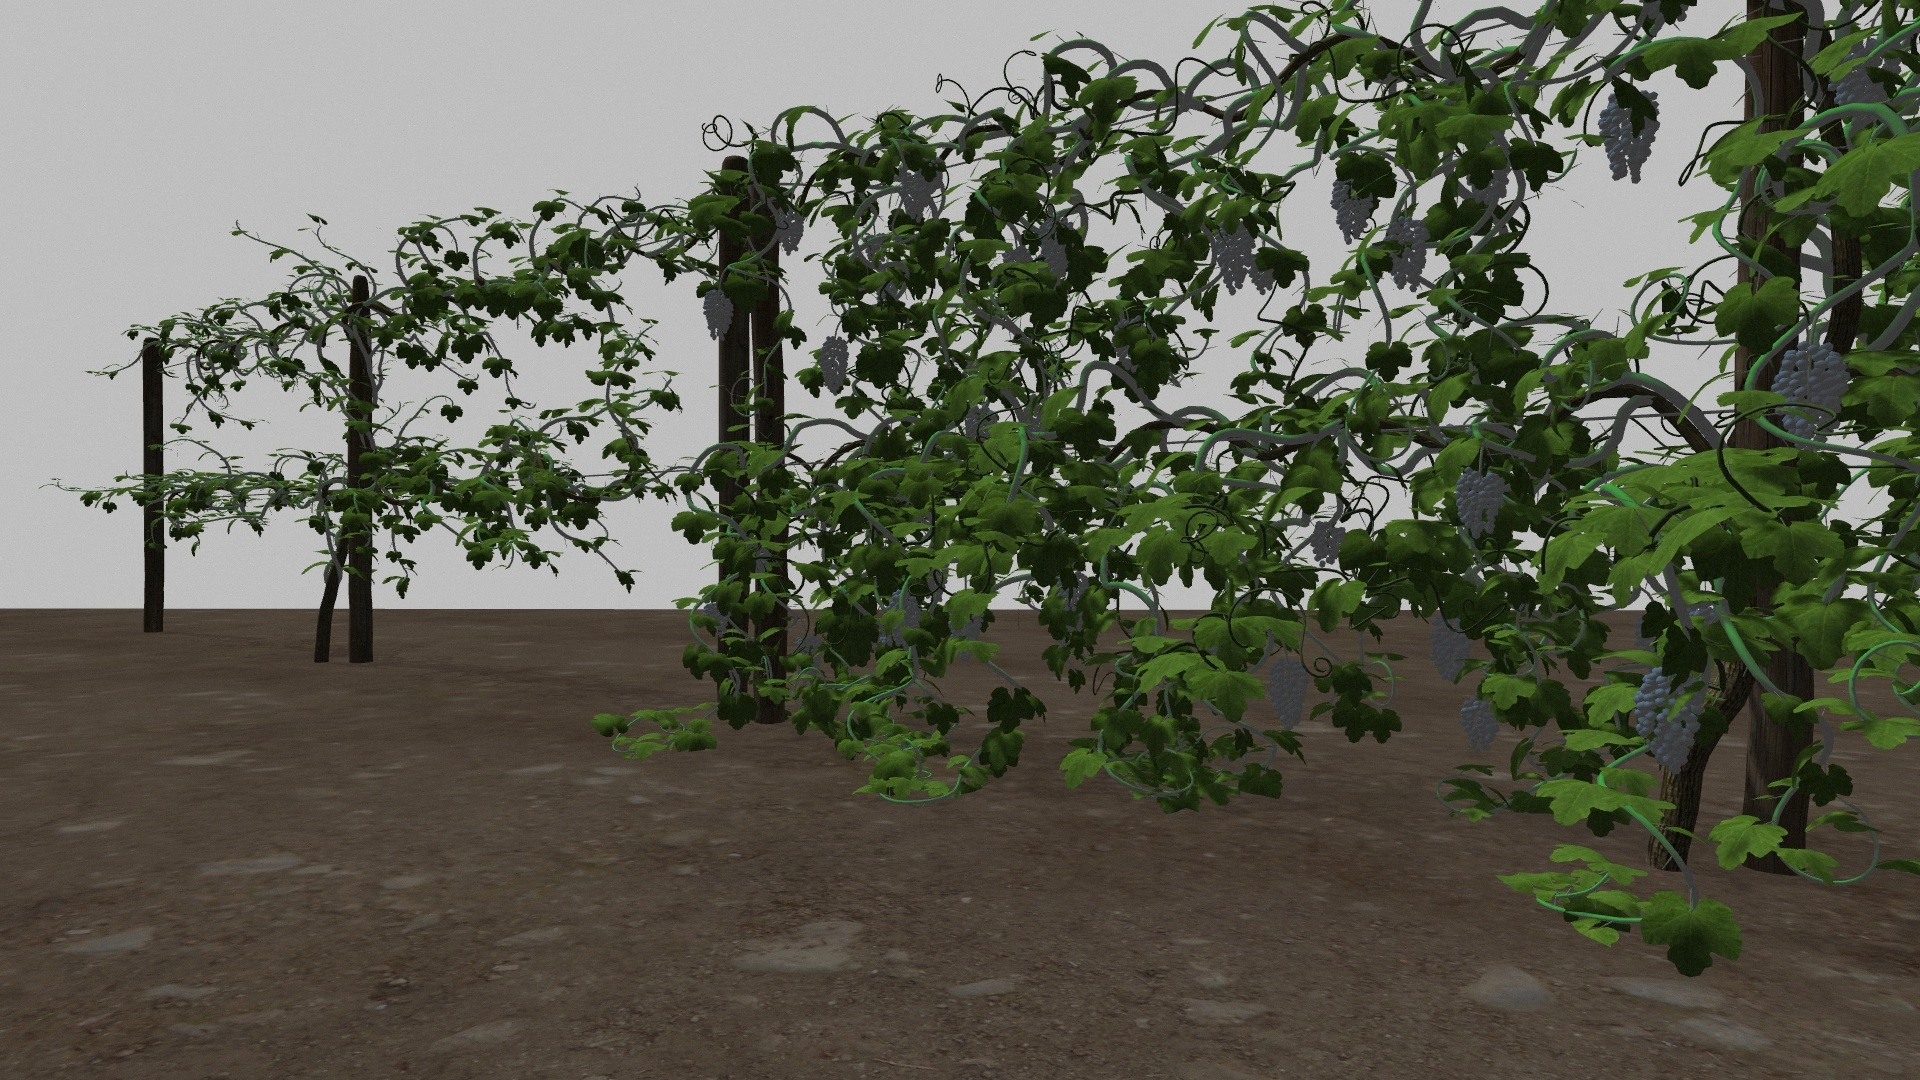grape: (1633, 665, 1706, 775), (1771, 342, 1849, 439), (1600, 84, 1660, 185), (1451, 471, 1505, 542), (1261, 655, 1309, 731), (1383, 216, 1429, 291), (1331, 170, 1374, 244), (1211, 219, 1254, 293), (1429, 611, 1469, 683), (1458, 694, 1501, 753), (899, 164, 938, 224), (1035, 219, 1072, 276), (815, 336, 849, 396), (886, 589, 920, 647), (1307, 522, 1344, 571), (774, 206, 804, 257), (704, 291, 733, 342)
